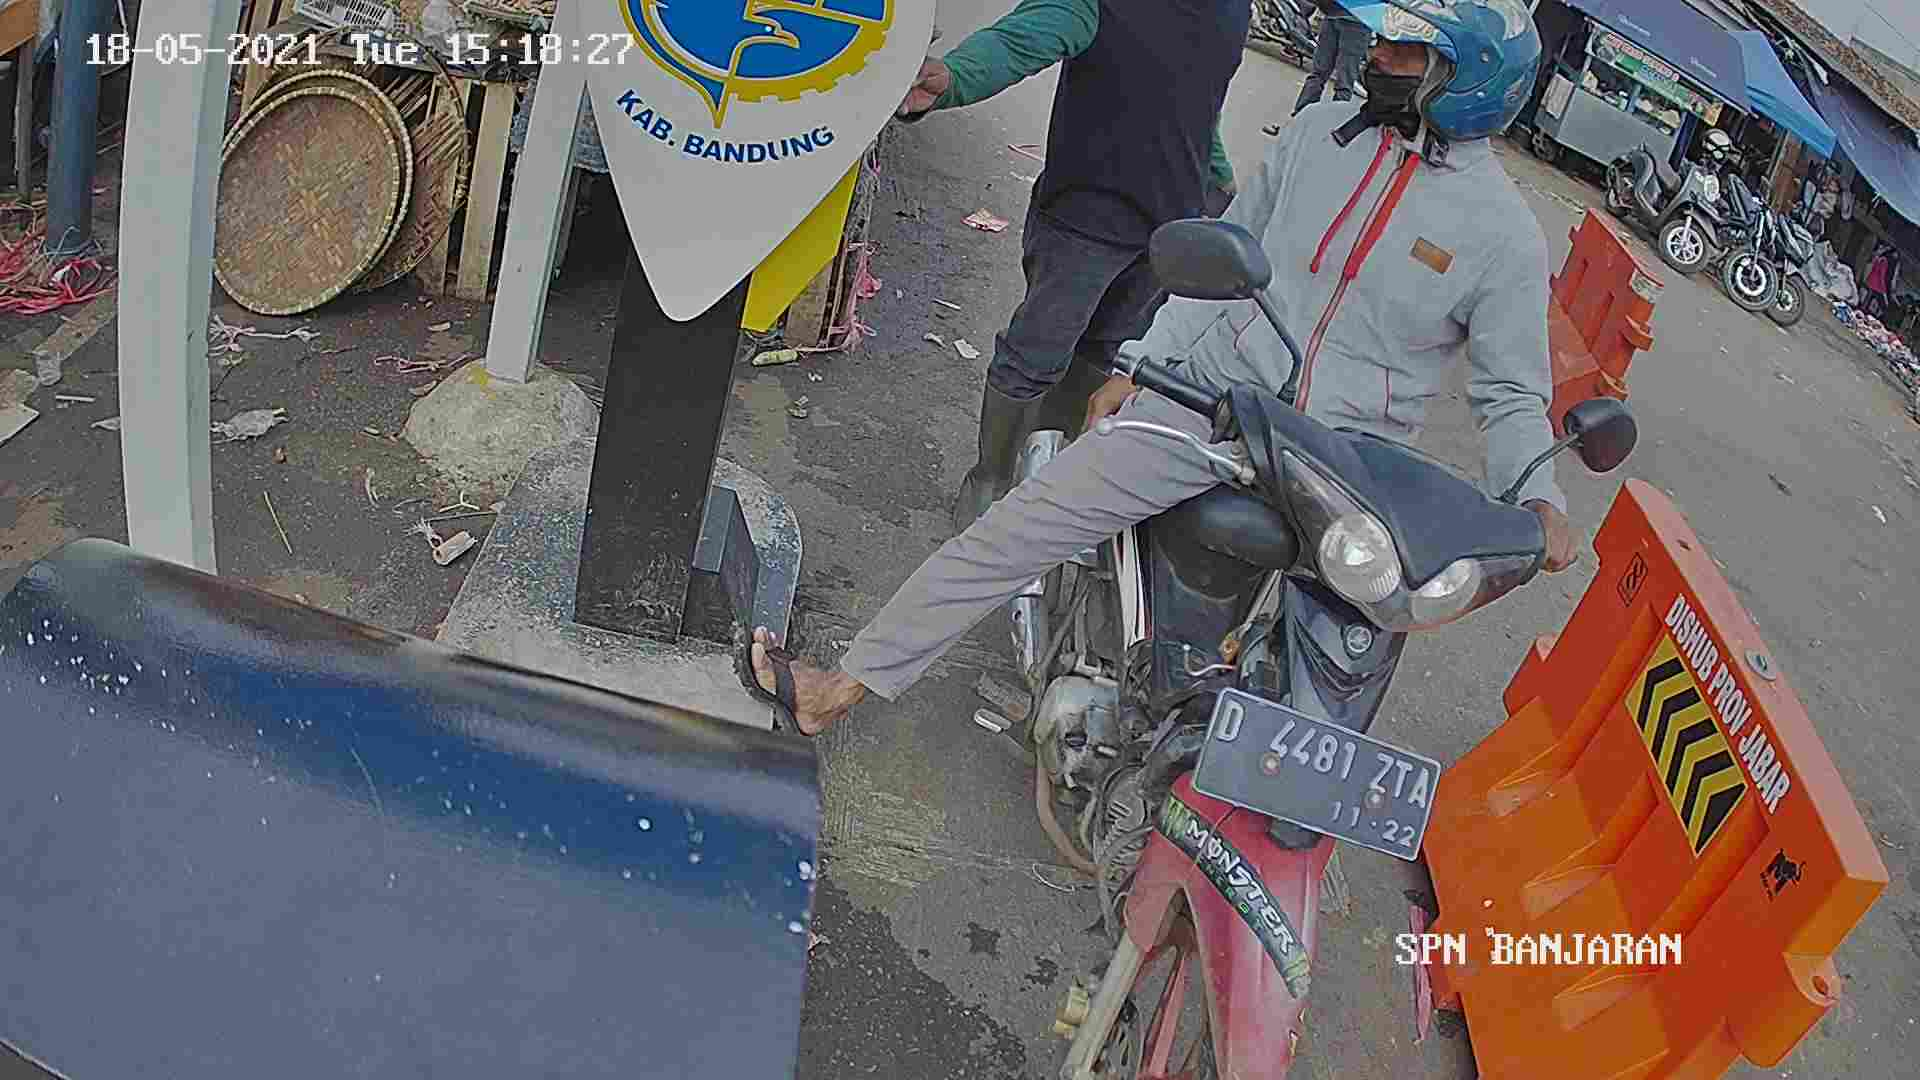motor: (1077, 372, 1524, 1080)
